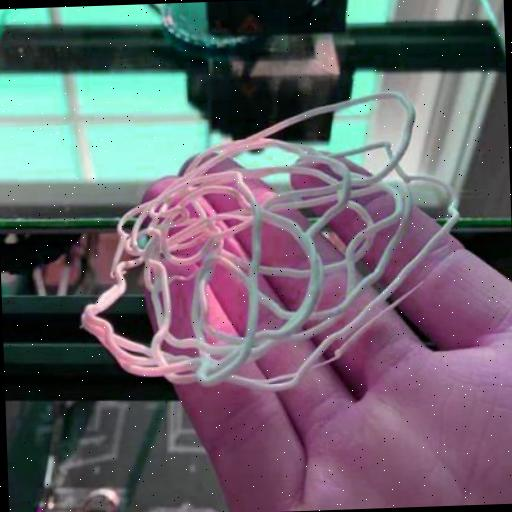spaghetti: (70, 84, 468, 402)
